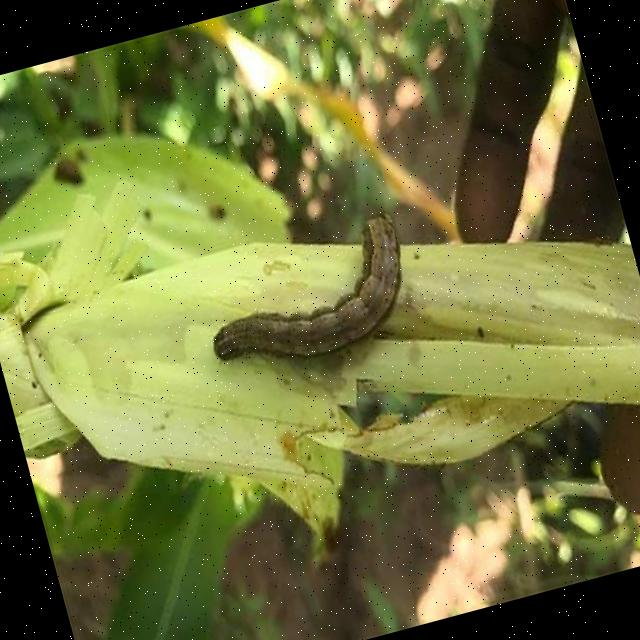worm: (190, 211, 424, 386)
